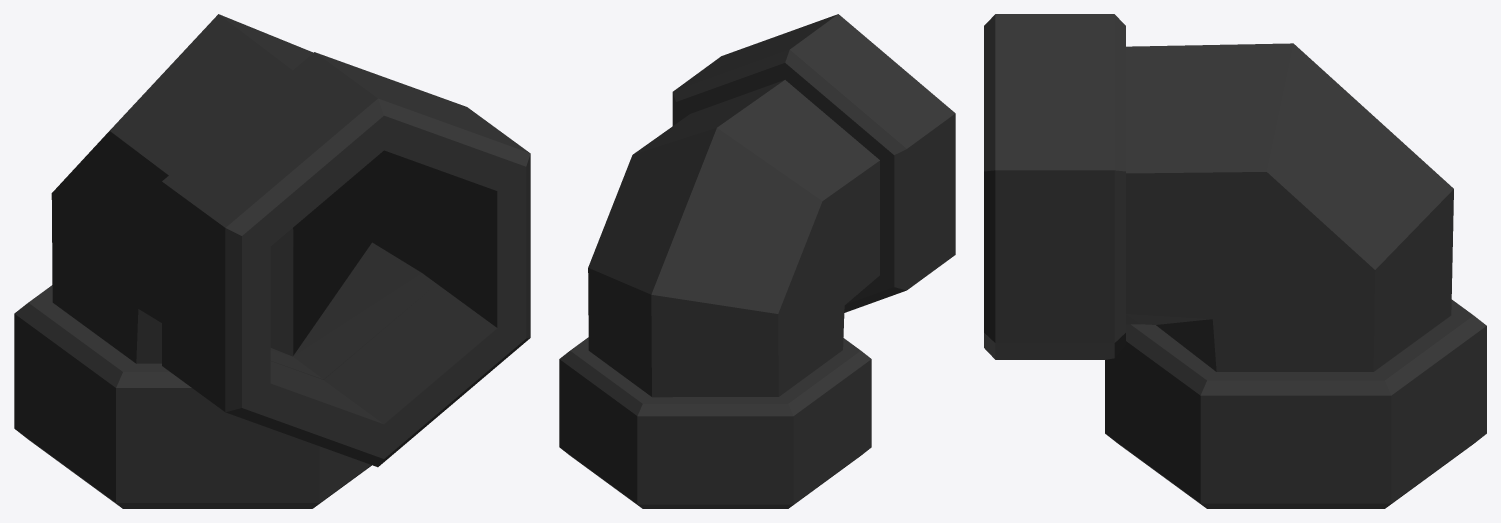
The model's file is HJD_SFB_Pipe_Corner_01.fbx.
3 renders of one model, left to right at view 1: azimuth 30°, elevation 25°; view 2: azimuth 150°, elevation 25°; view 3: azimuth 270°, elevation 25°, orthographic. The views are drawn at different scales.
Parts seen in each view (by area): view 1: HJD_SFB_Asset; view 2: HJD_SFB_Asset; view 3: HJD_SFB_Asset.
Boxes of the visible parts, x1,y1,x2,y2 form: HJD_SFB_Asset: (14, 14, 530, 508); HJD_SFB_Asset: (559, 14, 955, 508); HJD_SFB_Asset: (984, 14, 1486, 508).
Bounding box in the file's own units: 58.3 × 83.66 × 88.66.
